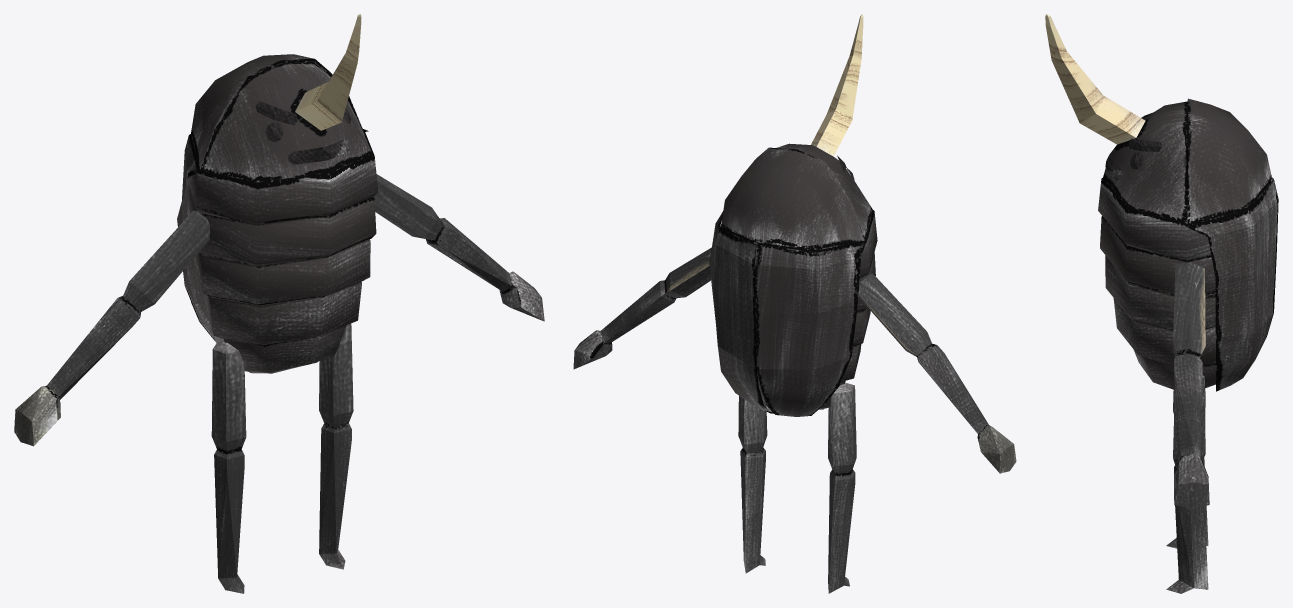
Rendered from scarab.glb.
3 renders of one model, left to right at view 1: azimuth 30°, elevation 25°; view 2: azimuth 150°, elevation 25°; view 3: azimuth 270°, elevation 25°, orthographic. The views are drawn at different scales.
Visible parts, largest first — view 1: mesh_id29; view 2: mesh_id29; view 3: mesh_id29.
Part boxes in pixels (x1=…): mesh_id29: x1=14, y1=14, x2=544, y2=593; mesh_id29: x1=573, y1=14, x2=1016, y2=593; mesh_id29: x1=1045, y1=14, x2=1278, y2=593.
Size of the model in its own units: 0.4484 by 0.512 by 0.1953.
1 material, 1 textured.
